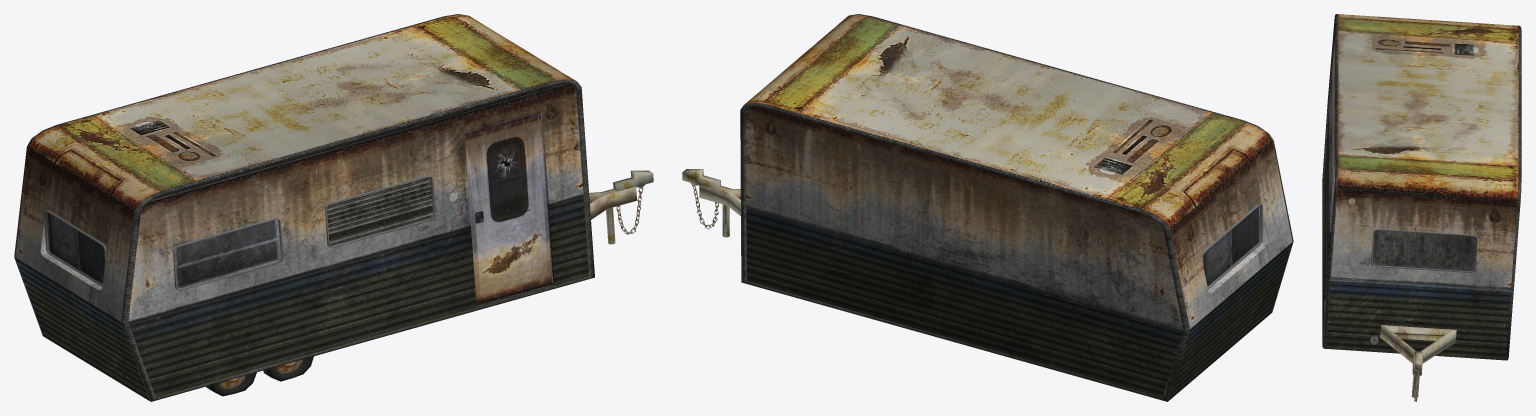
File: Trailer [importer.forcefix].fbx
The picture shows the model from 3 angles, left to right: view 1: azimuth 30°, elevation 25°; view 2: azimuth 150°, elevation 25°; view 3: azimuth 270°, elevation 25°; orthographic projection. The views are drawn at different scales.
Parts seen in each view (by area): view 1: Trailer; view 2: Trailer; view 3: Trailer.
Part boxes in pixels (bbox=[...]): Trailer: bbox=[14, 14, 653, 401]; Trailer: bbox=[682, 14, 1293, 401]; Trailer: bbox=[1322, 14, 1521, 401].
Size of the model in its own units: 9.13 by 3.44 by 3.2.
1 material, 1 textured.
